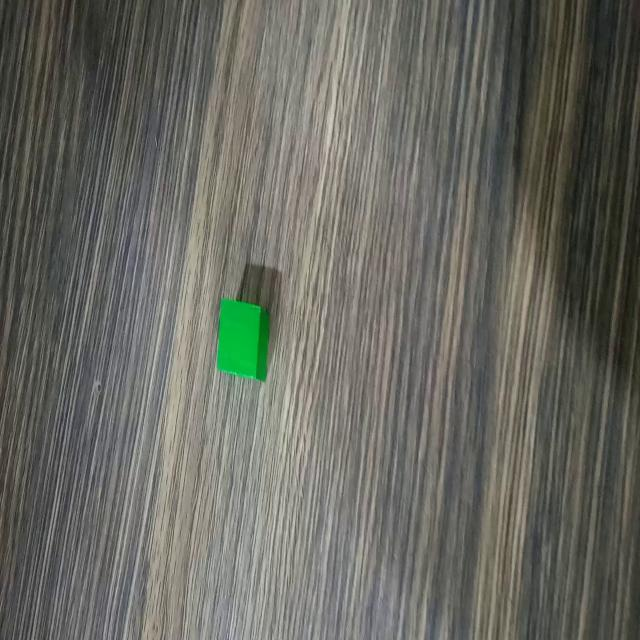cube: (213, 293, 273, 387)
